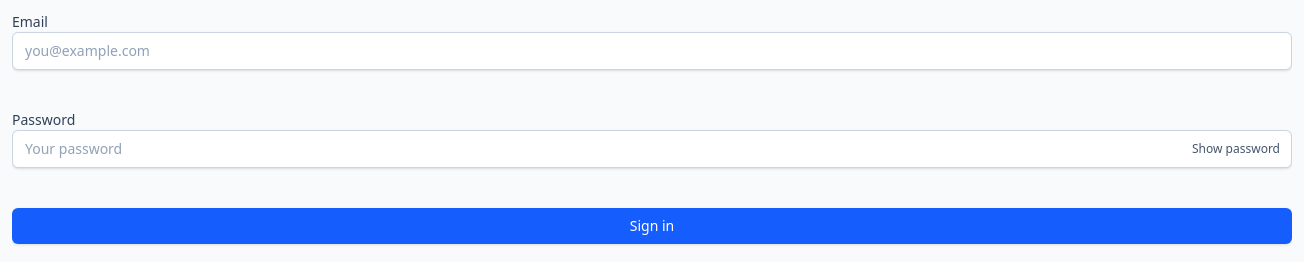
Test: LoginForm › validation › shows email_invalid error when email format is invalid
Step 1. Type "not-an-email" into the field labelled "Email" → x=652, y=51, box [12,32,1292,70]
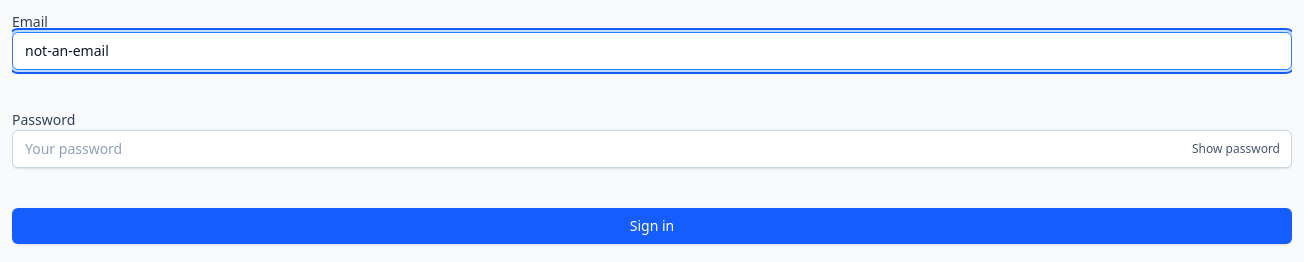
Step 2. Click the password field labelled "Password" → x=652, y=149, box [12,130,1292,168]
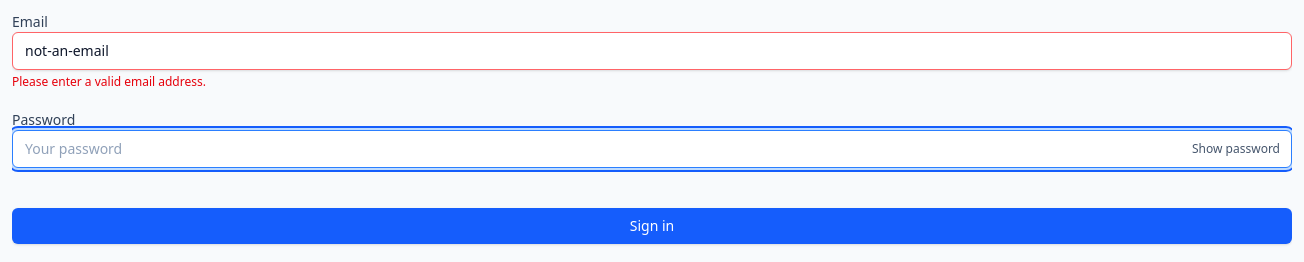
Expected: the text "Please enter a valid email address." is shown, [12,73,206,90]
